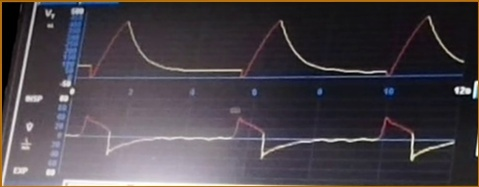Flow: (70, 113, 456, 177)
Leakage Volume: (83, 15, 469, 85)
